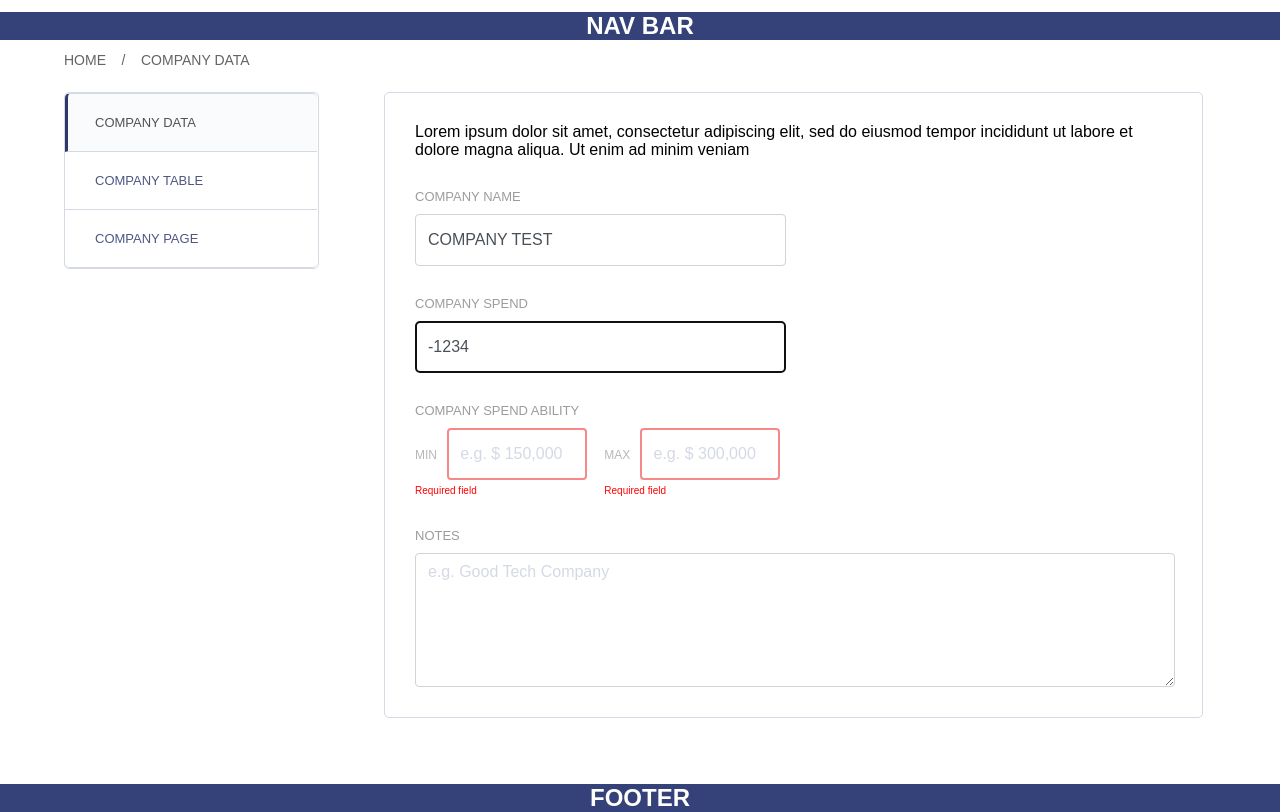
Test case: Company Data › Type "min" greater than "max" field => Must show comparisson error
This screenshot has width=1280, height=812.
In the field with test id "min": [517, 454] box [447, 428, 587, 480], type "100"
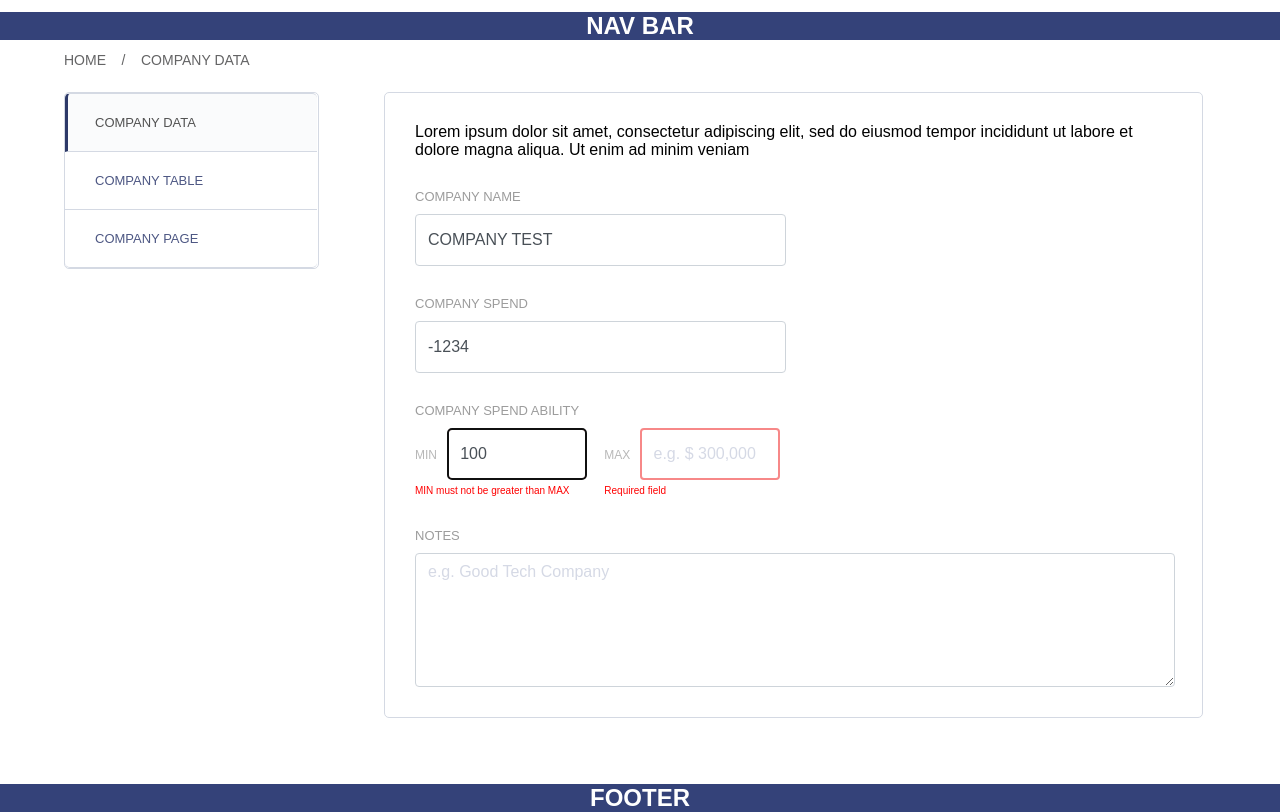
In the field with test id "max": [710, 454] box [640, 428, 780, 480], type "10"
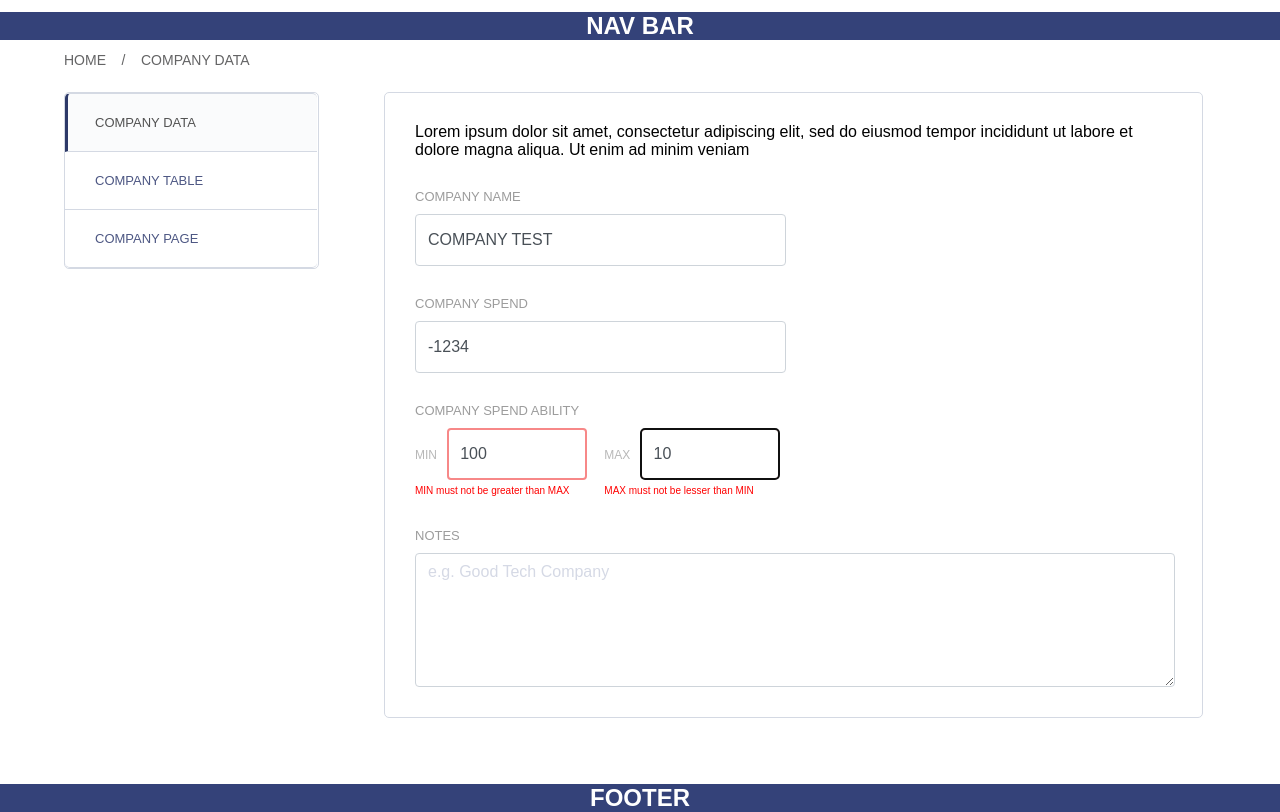
Expected: the text with test id "min-error" reads "MIN must not be greater than MAX", [415, 485, 570, 496]
Expected: the text with test id "max-error" reads "MAX must not be lesser than MIN", [604, 485, 754, 496]
